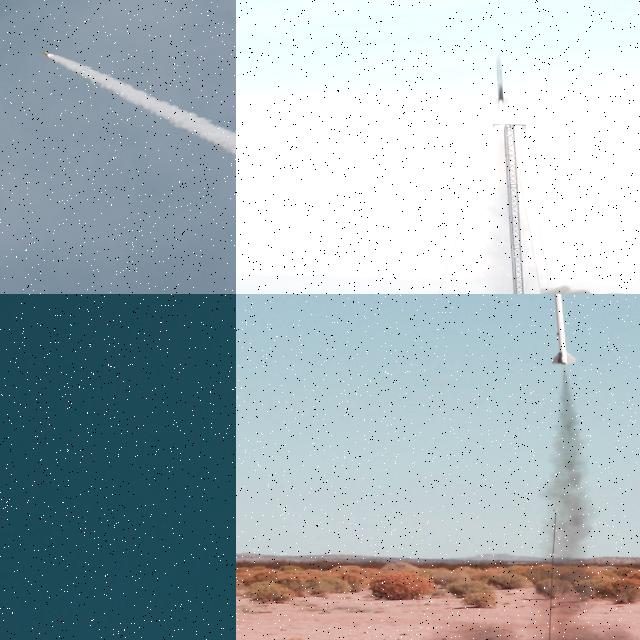Rocket: (550, 294, 577, 366), (496, 56, 505, 102), (43, 52, 52, 58)
